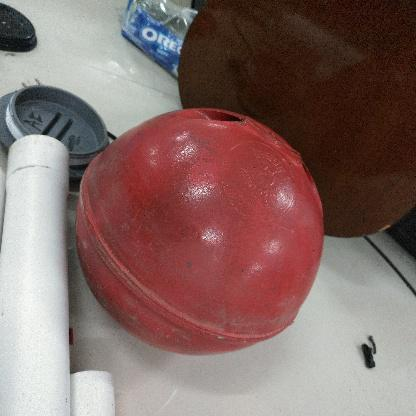red_buoy: (76, 107, 325, 355)
